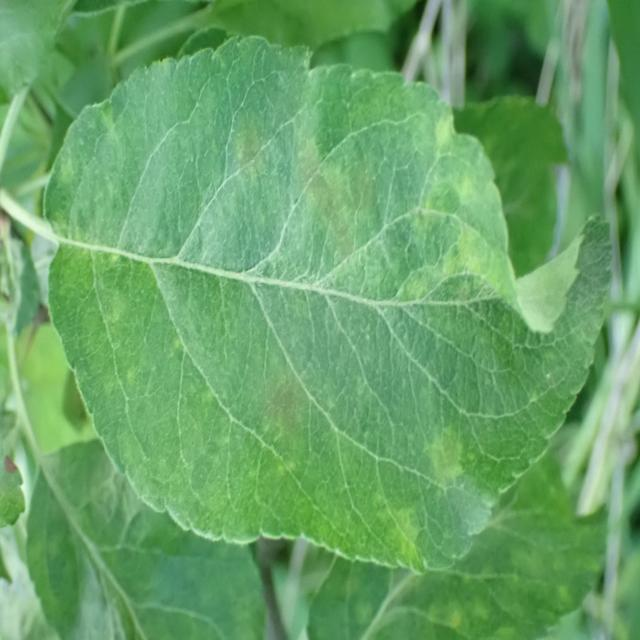scab: (53, 105, 572, 570)
